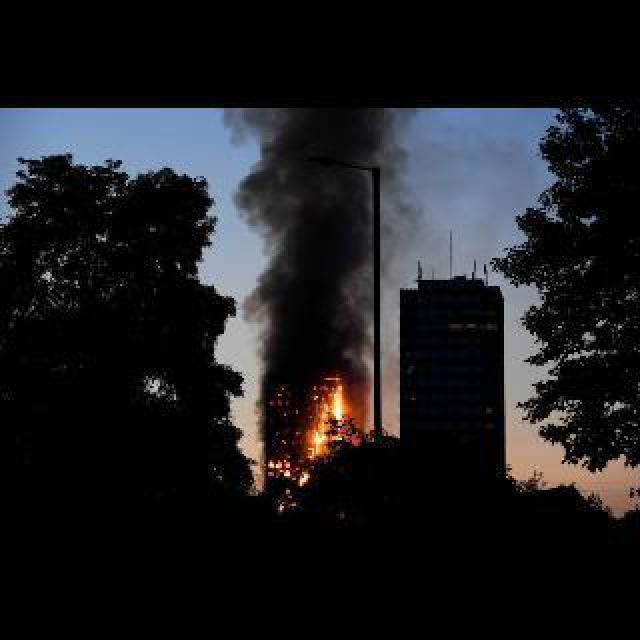Fire: (308, 372, 356, 448), (262, 454, 310, 488)
Smoke: (246, 112, 374, 370)
